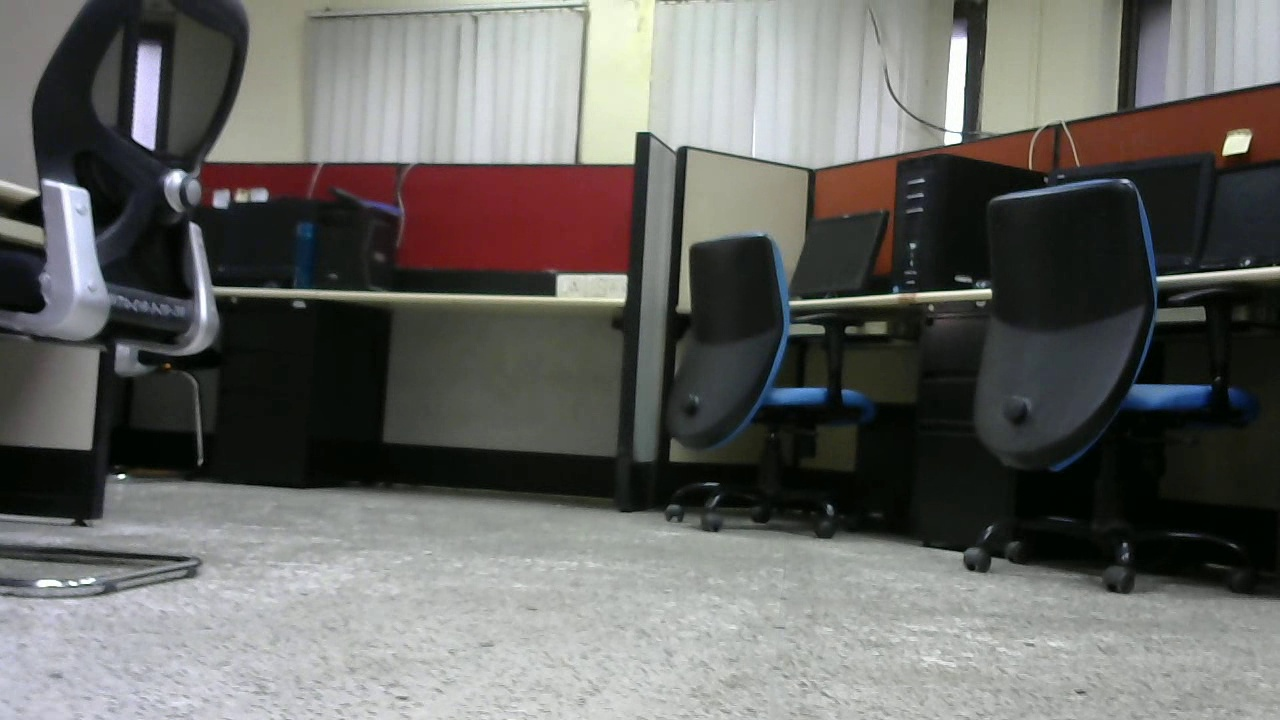chair: (956, 173, 1280, 602), (659, 226, 877, 546)
